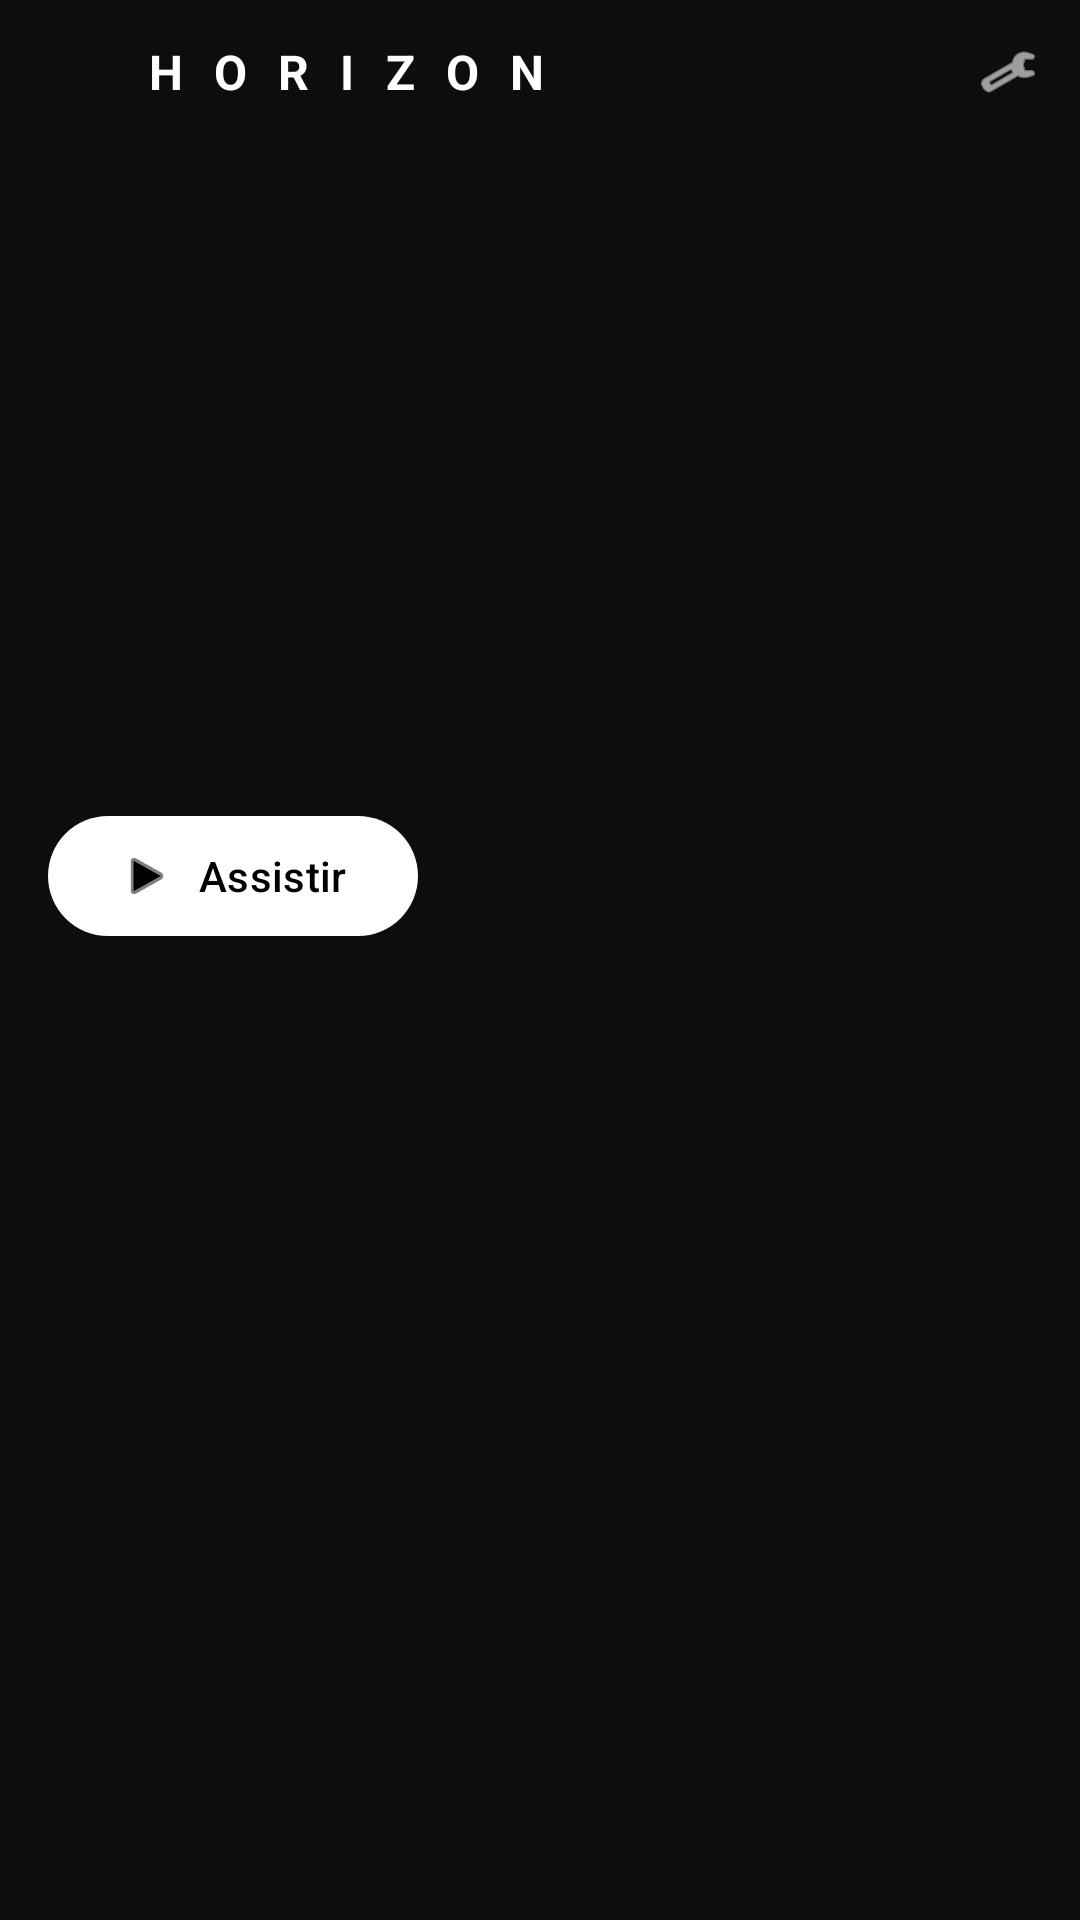

Named icons in this screenshot (1080px x 1920px) and their bounding boxes, (x1, y1, x2, y2):
manage: (981, 51, 1035, 93)
